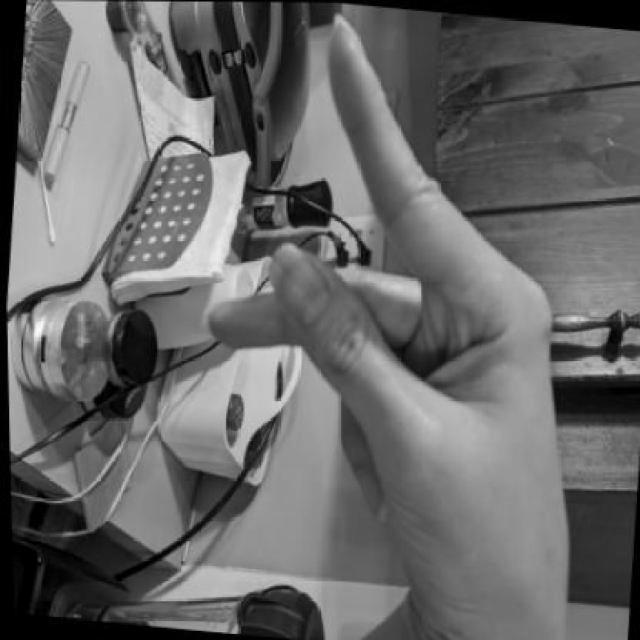P: (171, 1, 623, 612)
